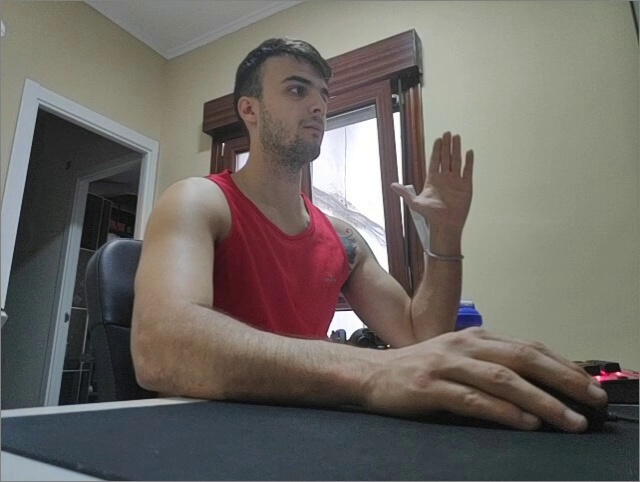Palm: (390, 131, 474, 221)
